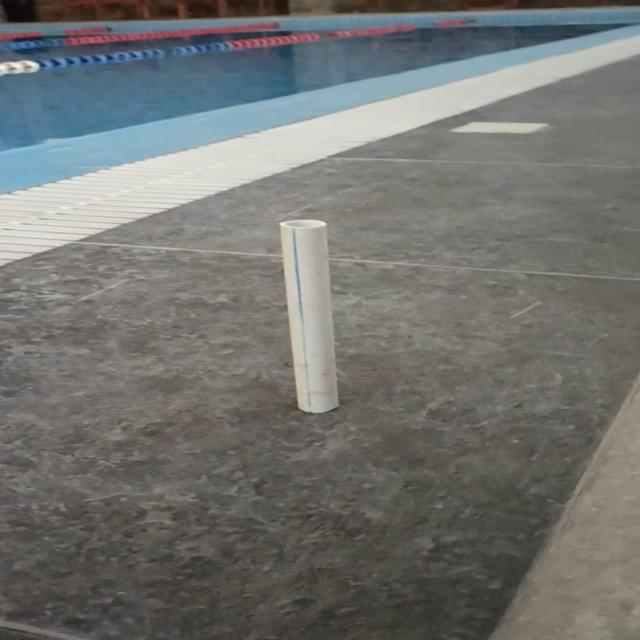Cube: (276, 218, 341, 414)
